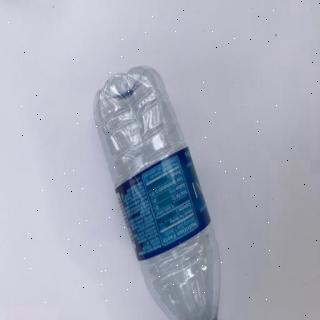Plastic-bottle: (93, 65, 223, 320)
